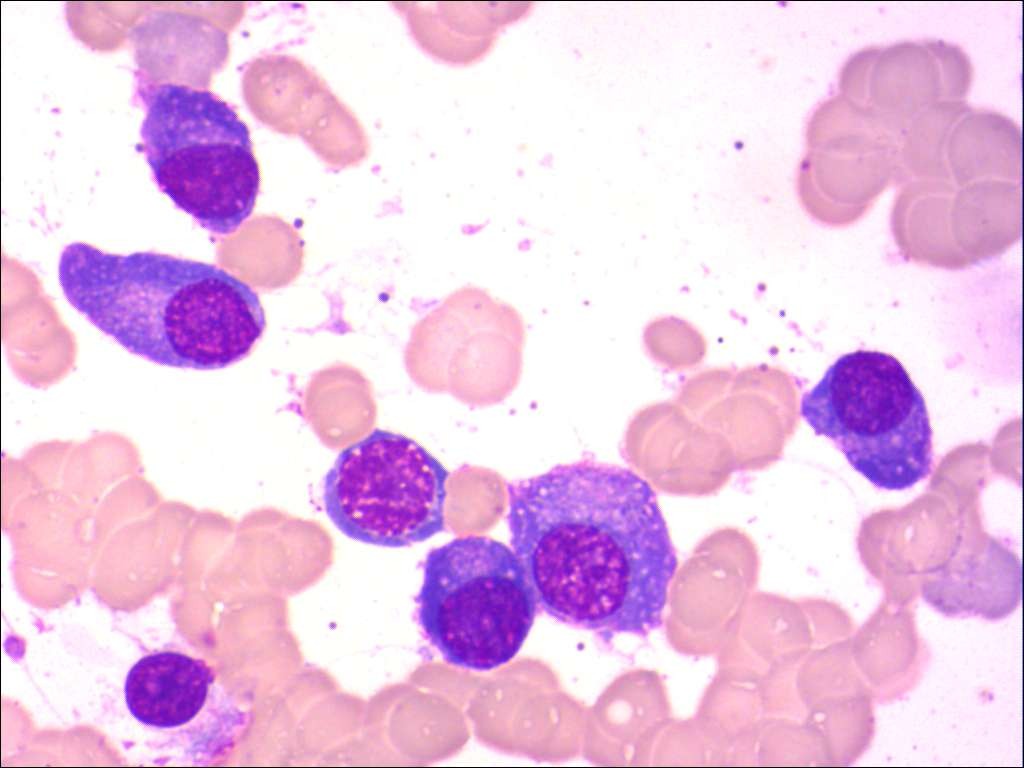22: (317, 424, 453, 552)
51: (499, 451, 683, 644), (54, 237, 271, 377), (133, 78, 266, 243), (798, 346, 939, 494), (409, 530, 541, 673)
x: (114, 637, 225, 741)
